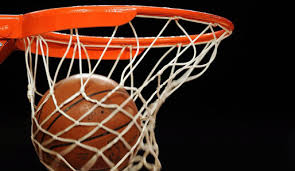Basketball: (30, 71, 146, 171)
